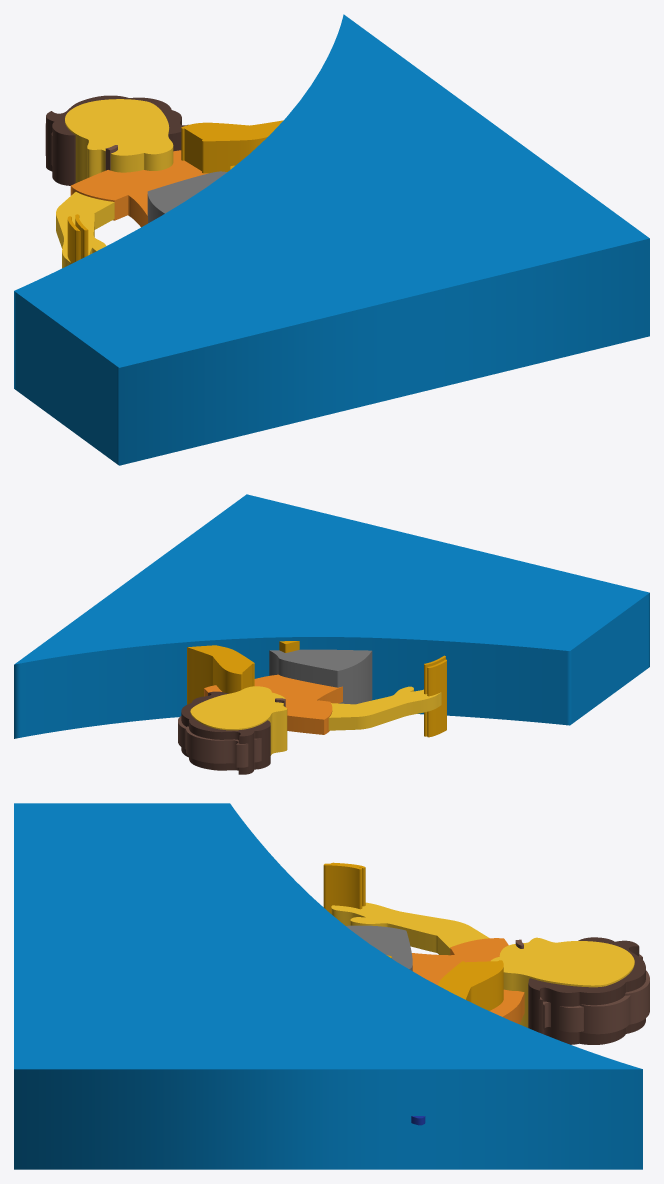
Rendered from emoji_u1f3c4.glb.
3 views of the same model, one above another, from view 1: azimuth 30°, elevation 25°; view 2: azimuth 150°, elevation 25°; view 3: azimuth 270°, elevation 25° (orthographic). The views are drawn at different scales.
Parts seen in each view (by area): view 1: emoji_u1f3c4; view 2: emoji_u1f3c4; view 3: emoji_u1f3c4.
Boxes of the visible parts, x1,y1,x2,y2 form: emoji_u1f3c4: (14,14,649,465); emoji_u1f3c4: (14,494,649,774); emoji_u1f3c4: (14,803,649,1169).
Bounding box in the file's own units: 0.0332 × 0.0058 × 0.0333.
